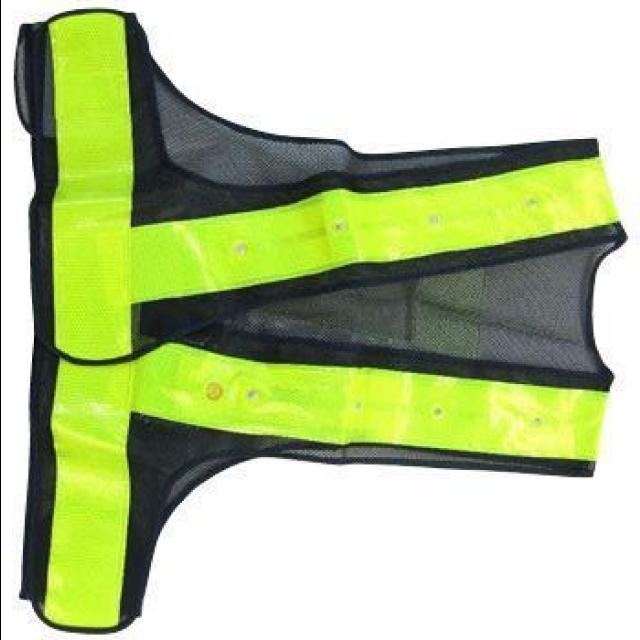jacket: (14, 0, 614, 622)
